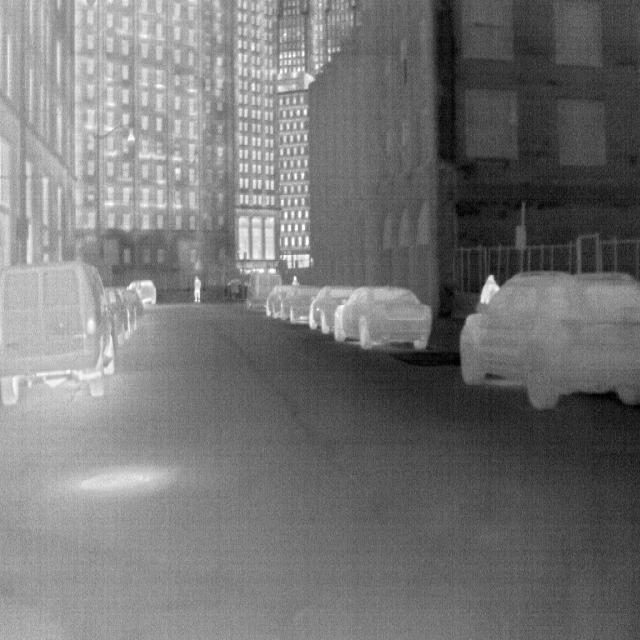Pedestrian: (477, 272, 499, 310), (193, 274, 201, 302), (291, 274, 298, 289)
Vehicle: (456, 265, 640, 411), (0, 257, 118, 404), (332, 282, 433, 352), (243, 270, 283, 314)
